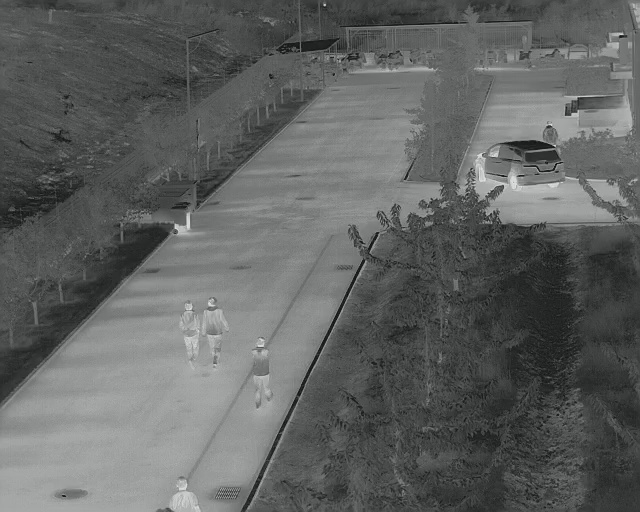person: (250, 337, 276, 407), (203, 297, 227, 368), (180, 301, 200, 368), (169, 475, 198, 512)
vehicle: (474, 141, 564, 190)
